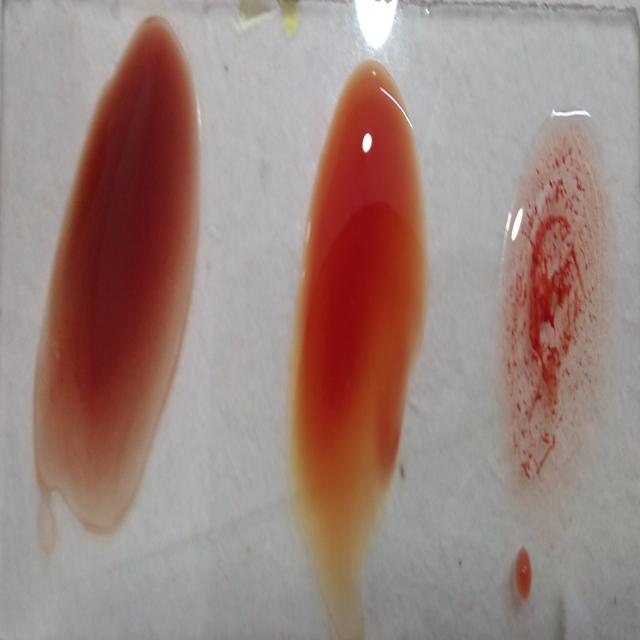D: (498, 127, 602, 507)
